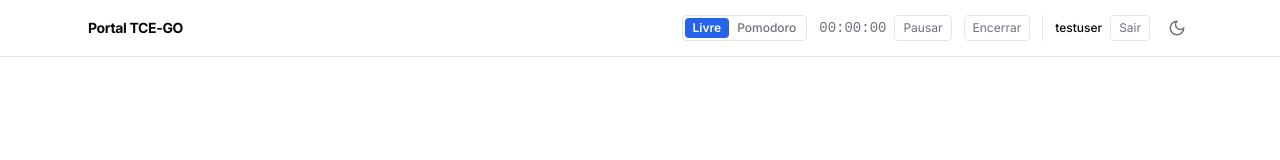
Test case: Header Component › controls Pomodoro play, pause and skip in Header @spec:AC-063 @spec:AC-064
Note: Alterna para Pomodoro
Click the button "Pomodoro". click: coordinates (767, 28)
box: [729,18,804,38]
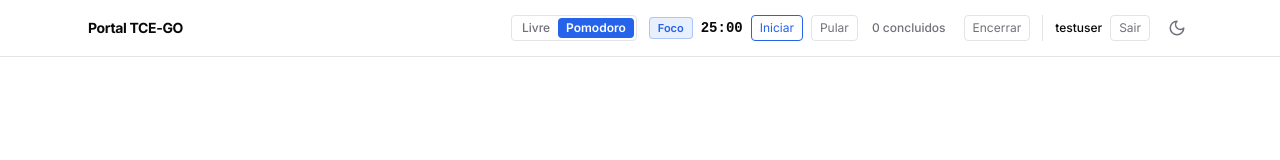
Note: Inicia Pomodoro
Click the button "Iniciar". click: coordinates (777, 28)
box: [751,15,803,41]
Wait 2000 ms
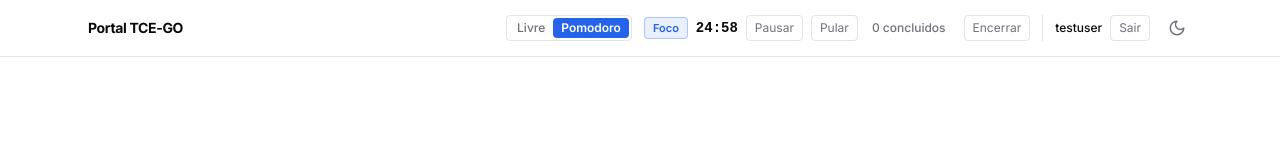
Result: the text "24:58" is shown at [696,18,738,38]
Note: Pular etapa (deve ir para Pausa Curta)
Click the button "Pular". click: coordinates (834, 28)
box: [811,15,858,41]
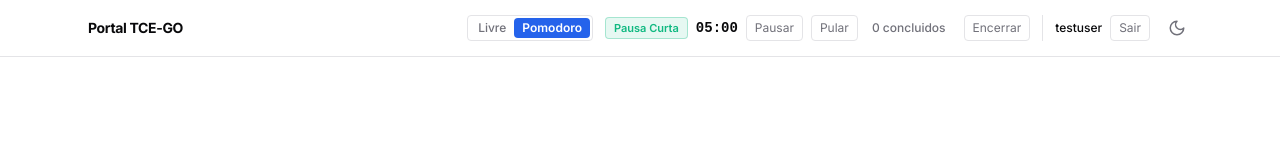
Result: the text "05:00" is shown at [696,18,738,38]
Result: the text "Pausa Curta" is shown at [605,17,688,39]
